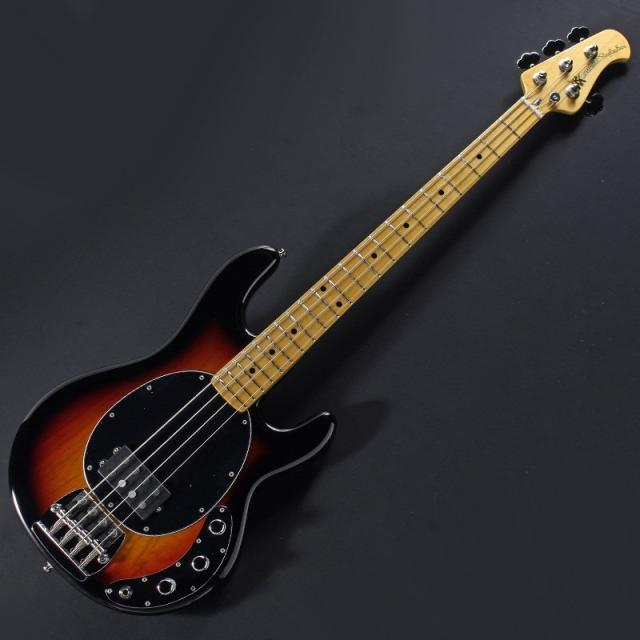bass: (10, 27, 629, 612)
